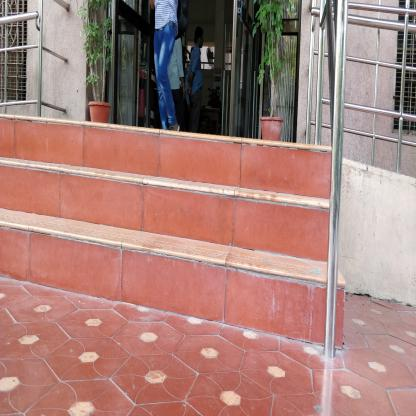stairs: (54, 131, 209, 330)
